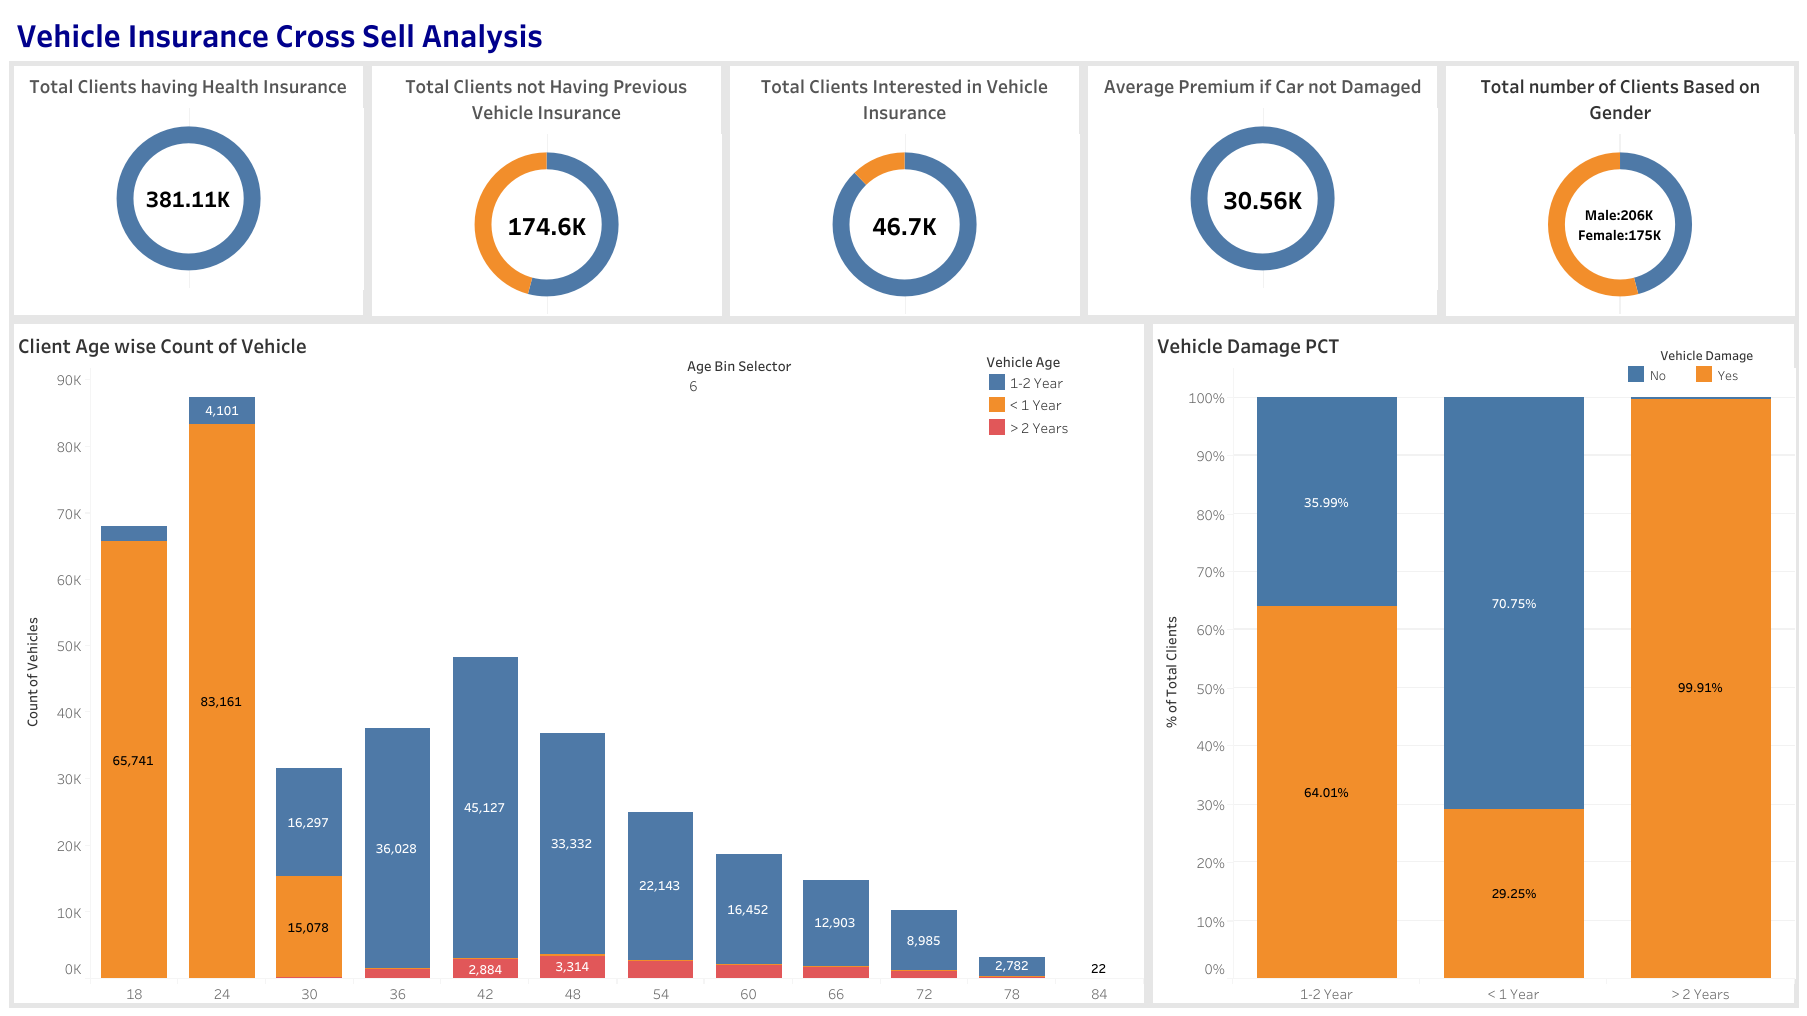

The page's visual inventory and layout, read from the dashboard file:
{"tool":"tableau","page":{"name":"Vehicle Insurance Dashboard","canvas":[1600,900],"ordinal":0},"visuals":[{"type":"title","box":[8,8,1584,53]},{"type":"worksheet","title":"KPI Total Customers","mark":"Pie","cols":["Calculation_146929988809523201","Calculation_146929988809555971"],"box":[8,61,317,239]},{"type":"worksheet","title":"Driving","mark":"Pie","cols":["Calculation_146929988809523201","Calculation_146929988809555971"],"box":[325,61,317,239]},{"type":"worksheet","title":"KPI interested in Vehivle Insurance","mark":"Pie","cols":["Calculation_146929988809523201","Calculation_146929988809555971"],"box":[642,61,317,239]},{"type":"worksheet","title":"Average Premium if Car Not Damaged","mark":"Pie","cols":["Calculation_146929988809523201","Calculation_146929988809555971"],"box":[959,61,317,239]},{"type":"worksheet","title":"KPI Gender wise","mark":"Pie","cols":["Calculation_146929988809523201","Calculation_146929988809555971"],"box":[1276,61,316,239]},{"type":"worksheet","title":"Age Bin","mark":"Automatic","rows":["id"],"cols":["Age (bin)"],"box":[8,300,1008,592]},{"type":"worksheet","title":"Vehicle Damage PCT","mark":"Automatic","cols":["Vehicle_Age"],"box":[1016,300,576,592]},{"type":"legend","title":"Vehicle Damage PCT","param":"[federated.0w4bns40kw0gln1d6t7o40zxs5gx].[none:Vehicle_Damage:nk]","box":[1438,305,143,52]},{"type":"legend","title":"Age Bin","param":"[federated.0w4bns40kw0gln1d6t7o40zxs5gx].[none:Vehicle_Age:nk]","box":[872,309,129,103]},{"type":"parameter","param":"[Parameters].[Age Parameter]","box":[608,313,252,78]}]}

Visuals, with their boxes in screenshot pixels (x1, y1, x2, y2), scaled from the page's 1600x900 canvas onto the 1807x1016 screenshot:
title: left=9, top=9, right=1798, bottom=69
"KPI Total Customers" worksheet (Pie marks): left=9, top=69, right=367, bottom=339
"Driving" worksheet (Pie marks): left=367, top=69, right=725, bottom=339
"KPI interested in Vehivle Insurance" worksheet (Pie marks): left=725, top=69, right=1083, bottom=339
"Average Premium if Car Not Damaged" worksheet (Pie marks): left=1083, top=69, right=1441, bottom=339
"KPI Gender wise" worksheet (Pie marks): left=1441, top=69, right=1798, bottom=339
"Age Bin" worksheet: left=9, top=339, right=1147, bottom=1007
"Vehicle Damage PCT" worksheet: left=1147, top=339, right=1798, bottom=1007
"Vehicle Damage PCT" legend: left=1624, top=344, right=1786, bottom=403
"Age Bin" legend: left=985, top=349, right=1131, bottom=465
parameter: left=687, top=353, right=971, bottom=441
